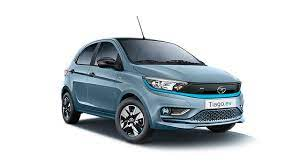Tiago: (59, 35, 245, 145)
